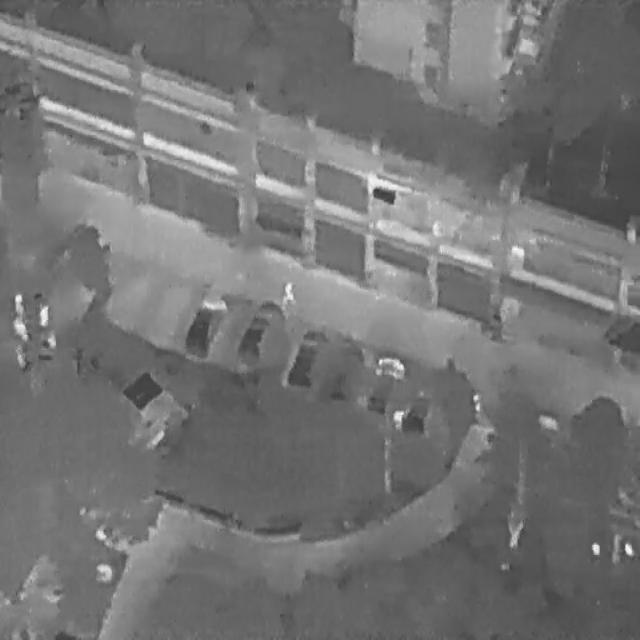Car: (178, 283, 230, 365), (233, 291, 283, 369), (281, 320, 331, 396), (320, 332, 369, 408), (360, 345, 409, 421), (399, 376, 439, 439)
Person: (282, 276, 294, 306), (469, 389, 482, 416), (392, 406, 403, 435)
